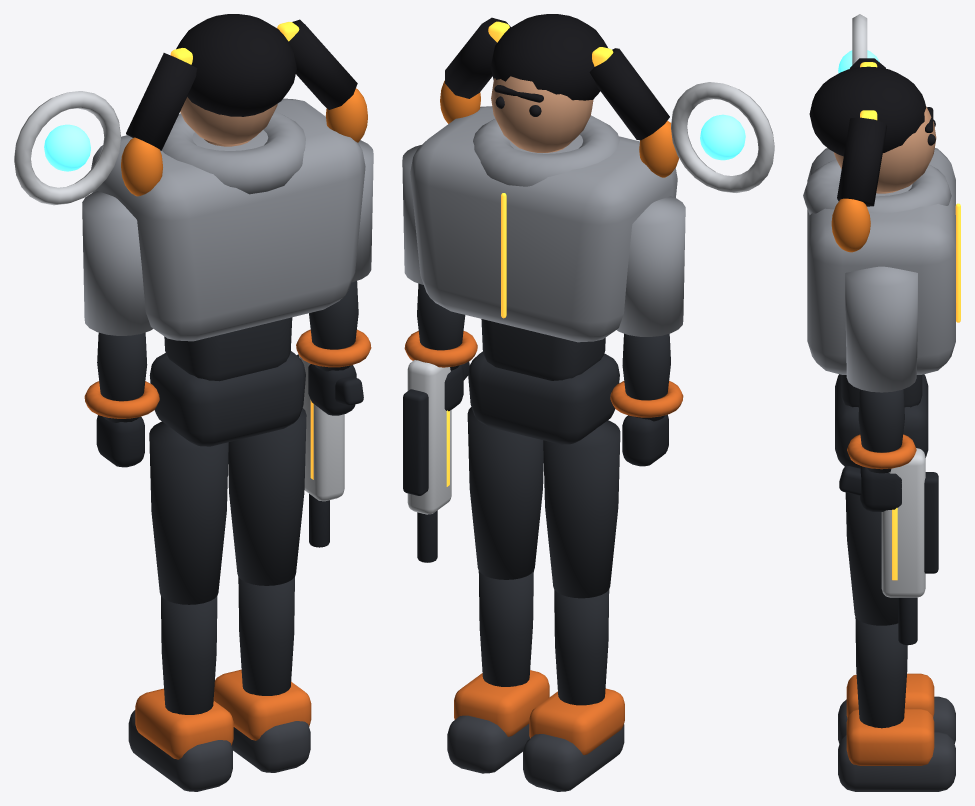
The model's file is iko.glb.
The picture shows the model from 3 angles, left to right: view 1: azimuth 30°, elevation 25°; view 2: azimuth 150°, elevation 25°; view 3: azimuth 270°, elevation 25°; orthographic projection. The views are drawn at different scales.
Visible parts, largest first — view 1: Hoodie, Thigh0, Thigh1, Pelvis, HairCap, Sleeve0, Collar, Shin1, Shin0, DroneRing, Waist, BootTop0 (+19 smaller); view 2: Hoodie, Thigh0, Thigh1, Pelvis, Sleeve0, HairCap, Shin1, Shin0, Collar, DroneRing, Head, Waist (+20 smaller); view 3: Hoodie, Sleeve1, HairCap, Shin1, Body, Thigh1, BootTop1, Boot1, Collar, Tail1, Forearm1, Pelvis (+14 smaller).
Part boxes in pixels (x1=…): Hoodie: x1=91, y1=98, x2=365, y2=341; Thigh0: x1=149, y1=421, x2=228, y2=604; Thigh1: x1=228, y1=408, x2=306, y2=585; Pelvis: x1=149, y1=351, x2=305, y2=446; HairCap: x1=176, y1=14, x2=296, y2=116; Sleeve0: x1=82, y1=191, x2=153, y2=335; Collar: x1=162, y1=111, x2=305, y2=194; Shin1: x1=238, y1=577, x2=294, y2=695; Shin0: x1=161, y1=596, x2=217, y2=714; DroneRing: x1=14, y1=91, x2=120, y2=205; Waist: x1=164, y1=317, x2=292, y2=381; BootTop0: x1=135, y1=688, x2=233, y2=759; Hoodie: x1=410, y1=106, x2=677, y2=342; Thigh0: x1=543, y1=420, x2=620, y2=598; Thigh1: x1=467, y1=407, x2=543, y2=579; Pelvis: x1=468, y1=351, x2=619, y2=444; Sleeve0: x1=617, y1=196, x2=685, y2=336; HairCap: x1=490, y1=14, x2=607, y2=100; Shin1: x1=478, y1=571, x2=533, y2=686; Shin0: x1=554, y1=590, x2=609, y2=705; Collar: x1=473, y1=115, x2=619, y2=186; DroneRing: x1=671, y1=82, x2=774, y2=192; Head: x1=491, y1=76, x2=593, y2=152; Waist: x1=481, y1=319, x2=605, y2=380; Hoodie: x1=807, y1=148, x2=955, y2=374; Sleeve1: x1=845, y1=266, x2=917, y2=392; HairCap: x1=809, y1=66, x2=926, y2=156; Shin1: x1=855, y1=617, x2=907, y2=728; Body: x1=881, y1=448, x2=925, y2=597; Thigh1: x1=845, y1=492, x2=898, y2=625; BootTop1: x1=846, y1=708, x2=934, y2=765; Boot1: x1=838, y1=731, x2=955, y2=791; Collar: x1=803, y1=159, x2=951, y2=214; Tail1: x1=837, y1=117, x2=886, y2=206; Forearm1: x1=858, y1=389, x2=904, y2=473; Pelvis: x1=835, y1=374, x2=928, y2=468.
Size of the model in its own units: 0.893 by 1.75 by 0.361.
